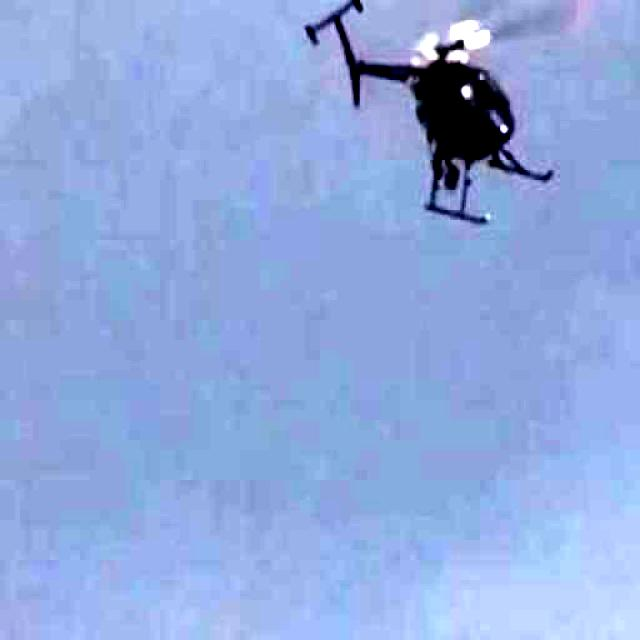drone: (248, 0, 594, 262)
